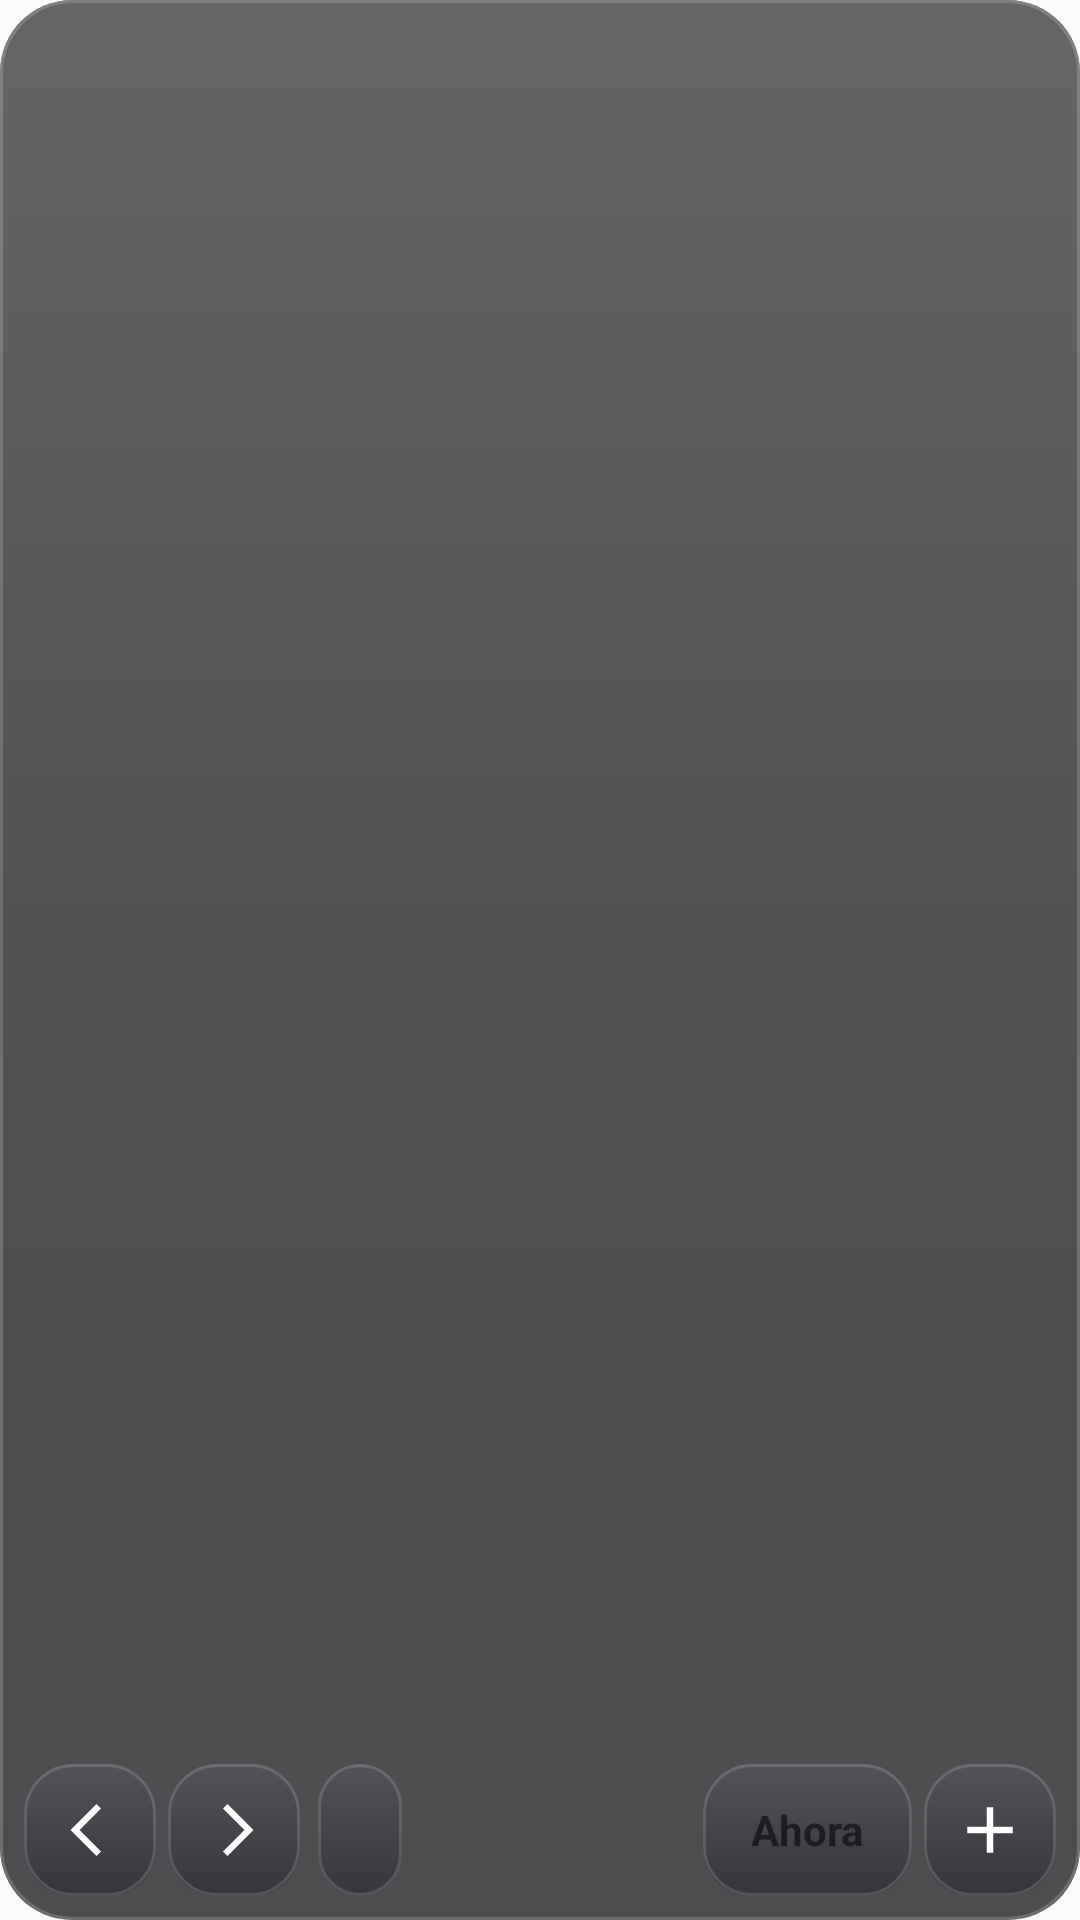

Screen size 1080x1920. Icon name, then its center in pixels as (x,y):
Añadir: (990,1828)
Día anterior: (90,1828)
Día siguiente: (234,1828)
